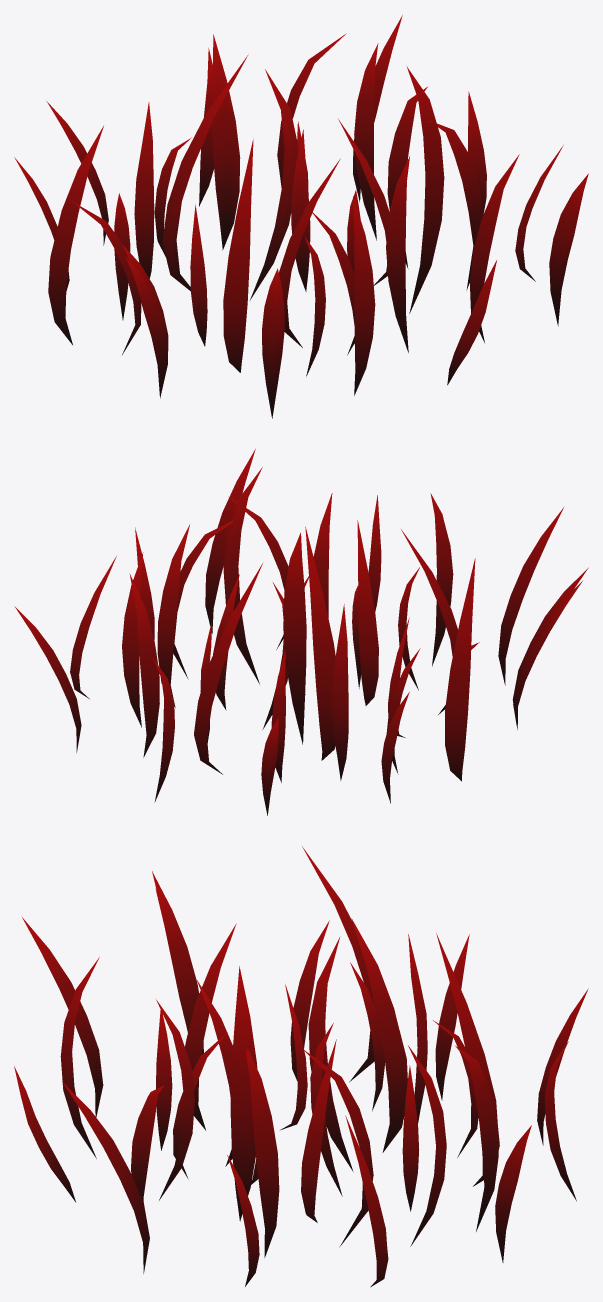
File: Grass1_LOD0.fbx
3 renders of one model, top to bottom at view 1: azimuth 30°, elevation 25°; view 2: azimuth 150°, elevation 25°; view 3: azimuth 270°, elevation 25°, orthographic. The views are drawn at different scales.
Parts seen in each view (by area): view 1: Grass; view 2: Grass; view 3: Grass.
Boxes of the visible parts, x1,y1,x2,y2 form: Grass: (14,15,588,418); Grass: (14,449,588,815); Grass: (14,846,588,1287).
Bounding box in the file's own units: 3.01 × 1.52 × 3.07.
